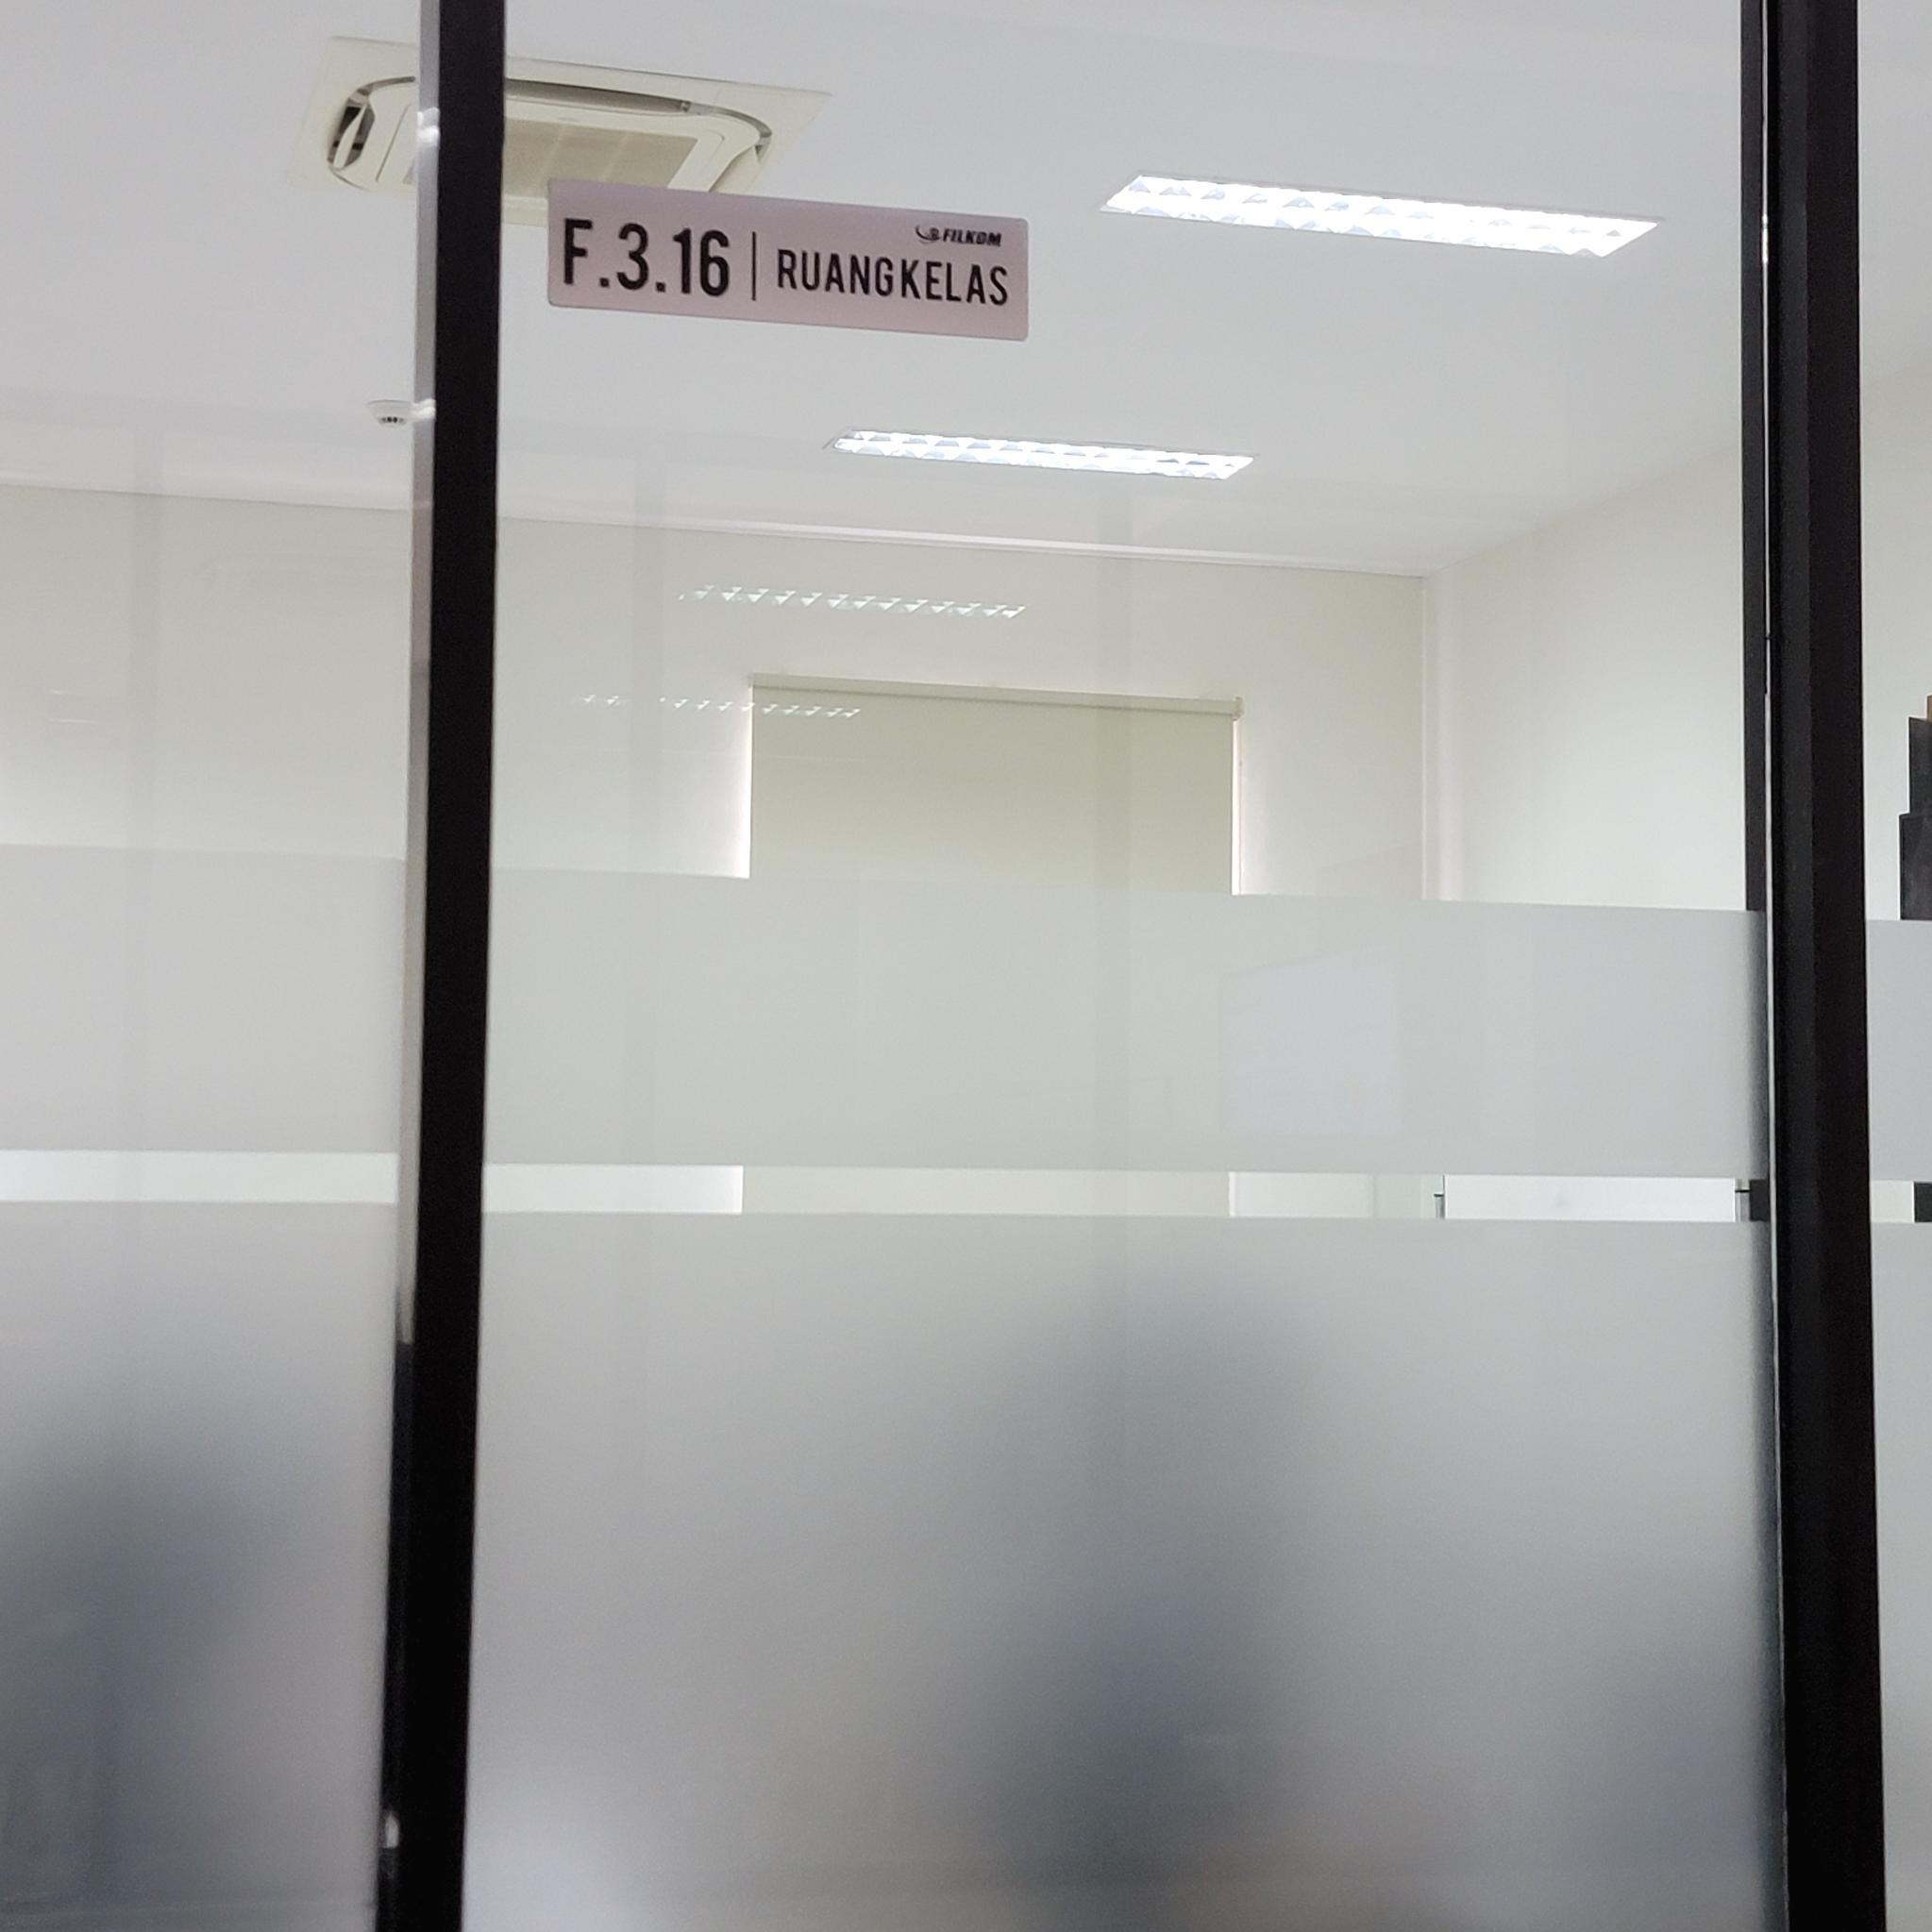plate: (548, 175, 1030, 343)
